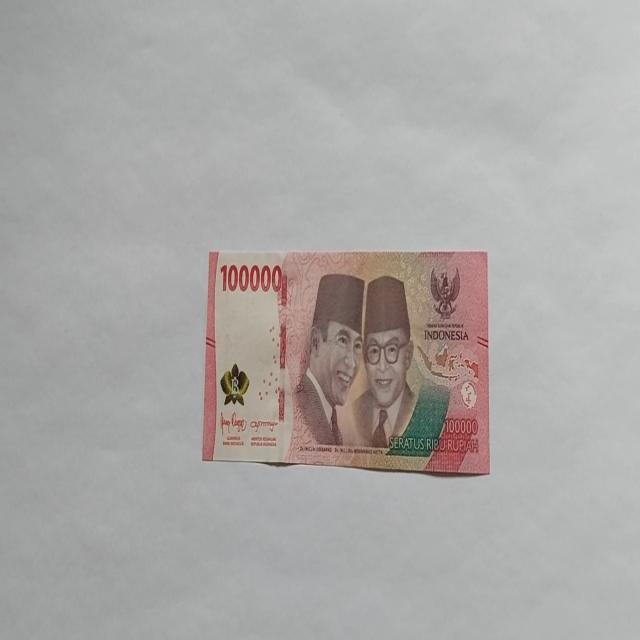seratus ribu rupiah: (202, 248, 490, 474), (288, 271, 364, 457)
